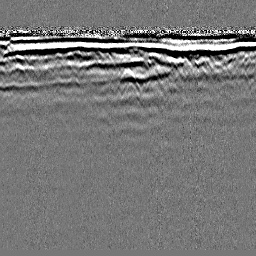cavity: (116, 66, 140, 92)
